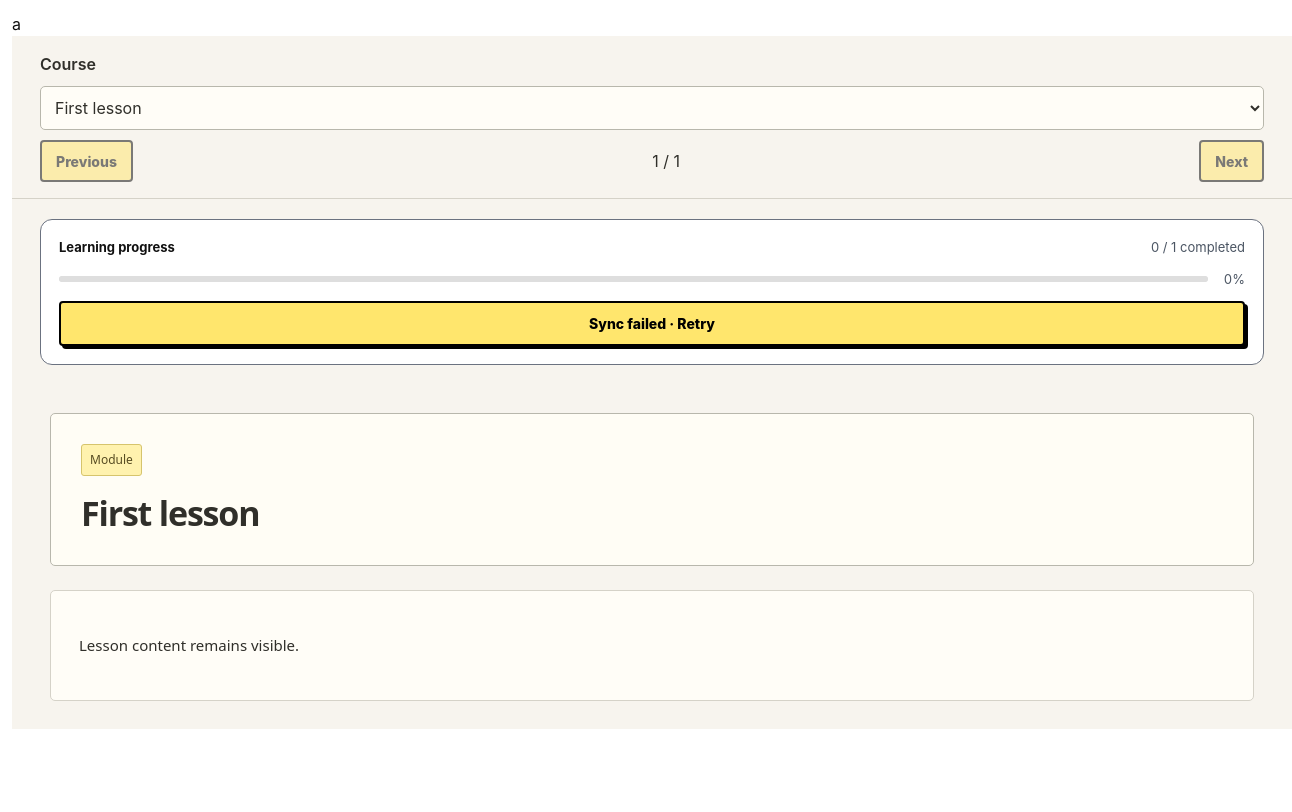
it: progress control with live lesson selection › retains lesson selection through a failed focus refresh and recovers through the same button
Check: the text "a" is shown, box [12,14,21,34]
Click the button "Sync failed · Retry". click: point(652, 324)
box: [59,301,1245,346]
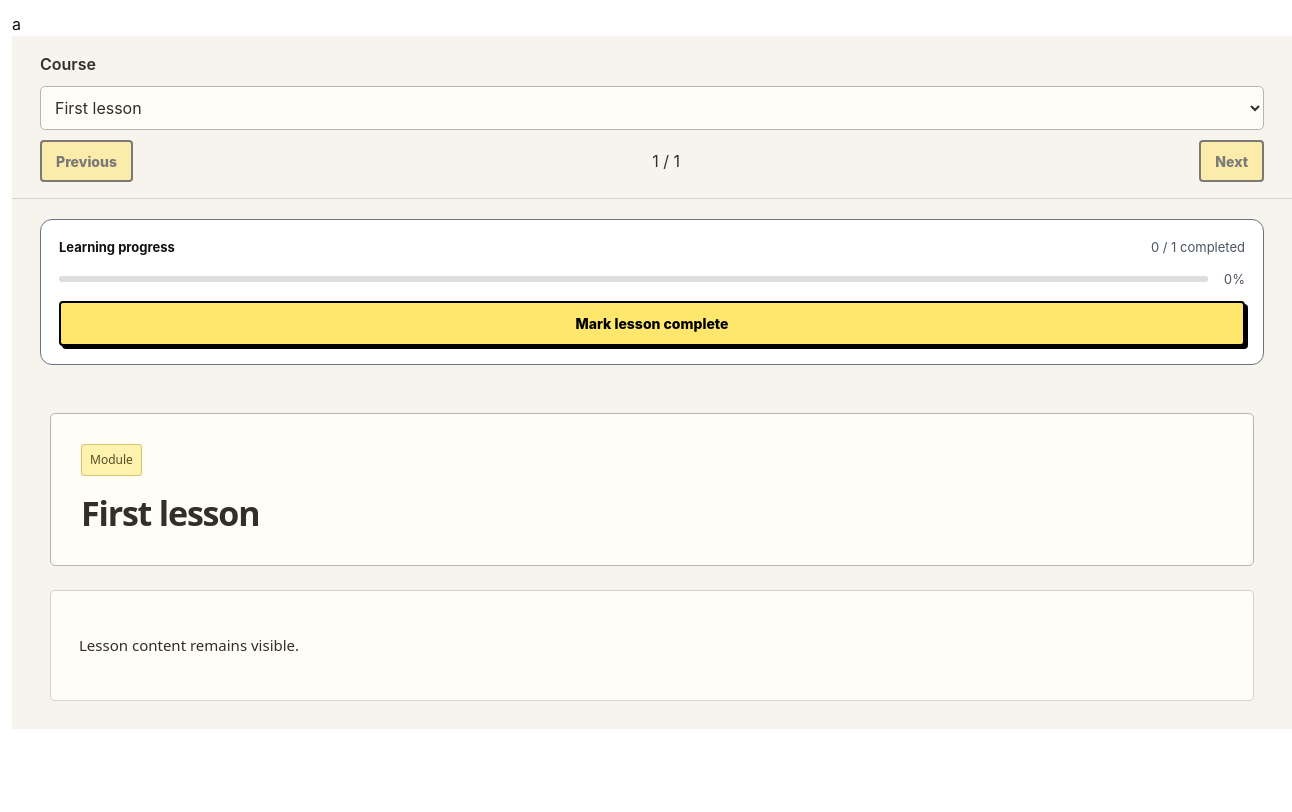
Check: the button "Mark lesson complete" is shown, box [59,301,1245,346]
